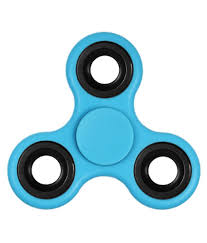fidget_spinner: (10, 10, 100, 100)
